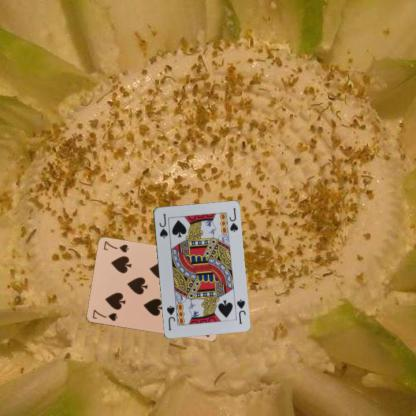7s: (90, 307, 118, 322)
Js: (234, 296, 247, 325), (156, 211, 168, 239)
